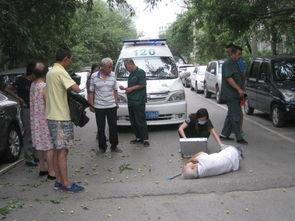Fall-Detected: (179, 137, 245, 180)
